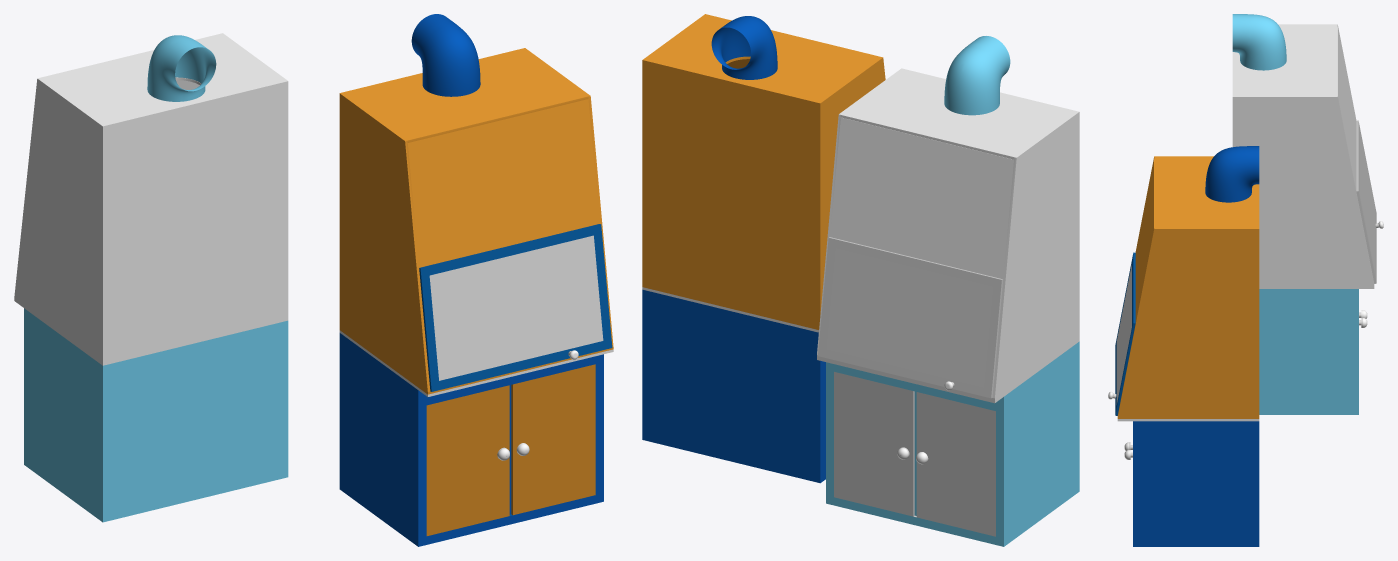
File: hote.glb
3 renders of one model, left to right at view 1: azimuth 30°, elevation 25°; view 2: azimuth 150°, elevation 25°; view 3: azimuth 270°, elevation 25°, orthographic. The views are drawn at different scales.
Visible parts, largest first — view 1: Chemical synthesis laboratory, Object_1106.001, ouvrir0, Object_1102.001, Object_1115.001, ouvrir1, ouvrir2, Object_1136.001, Object_1123.001, Object_1107.001, Object_1113.001, Object_1110.001; view 2: Chemical synthesis laboratory, Object_1106.001, Object_1115.001, Object_1136.001, Object_1123.001, Object_1113.001, Object_1110.001, Object_1107.001; view 3: Chemical synthesis laboratory, Object_1106.001, Object_1115.001, Object_1136.001, ouvrir0, Object_1102.001, Object_1113.001, Object_1123.001, Object_1107.001.
Boxes of the visible parts, x1,y1,x2,y2 form: Chemical synthesis laboratory: [14, 33, 288, 522]; Object_1106.001: [339, 48, 613, 391]; ouvrir0: [419, 224, 612, 391]; Object_1102.001: [407, 99, 599, 265]; Object_1115.001: [339, 341, 603, 538]; ouvrir1: [511, 364, 595, 515]; ouvrir2: [426, 385, 509, 535]; Object_1136.001: [411, 14, 480, 96]; Object_1123.001: [339, 481, 603, 546]; Object_1107.001: [339, 330, 613, 396]; Object_1113.001: [339, 333, 426, 398]; Object_1110.001: [339, 328, 613, 394]; Chemical synthesis laboratory: [817, 36, 1079, 546]; Object_1106.001: [642, 14, 885, 327]; Object_1115.001: [642, 298, 825, 474]; Object_1136.001: [711, 16, 777, 79]; Object_1123.001: [642, 431, 825, 483]; Object_1113.001: [642, 289, 818, 340]; Object_1110.001: [642, 284, 819, 329]; Object_1107.001: [642, 287, 818, 332]; Chemical synthesis laboratory: [1232, 14, 1383, 414]; Object_1106.001: [1117, 156, 1259, 416]; Object_1115.001: [1133, 428, 1259, 539]; Object_1136.001: [1205, 146, 1259, 202]; ouvrir0: [1108, 252, 1135, 415]; Object_1102.001: [1136, 159, 1154, 320]; Object_1113.001: [1133, 421, 1259, 427]; Object_1123.001: [1133, 540, 1259, 546]; Object_1107.001: [1117, 419, 1259, 421].
Size of the model in its own units: 2.67 by 2.86 by 1.81.
